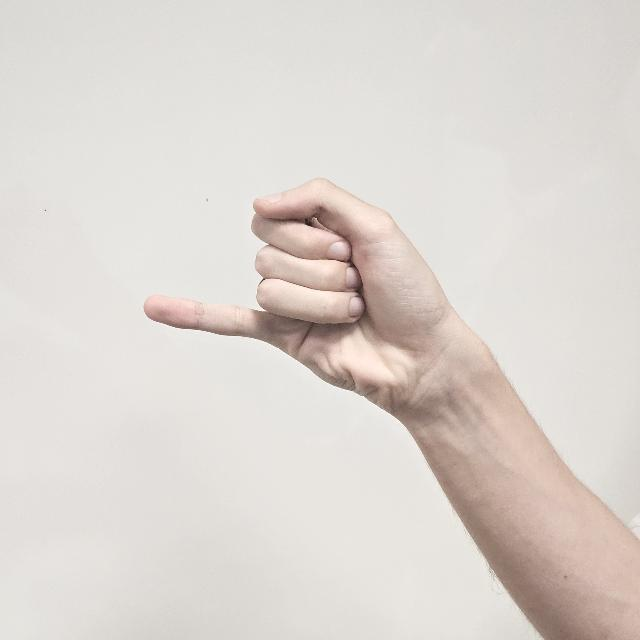Esquerda: (110, 160, 448, 426)
